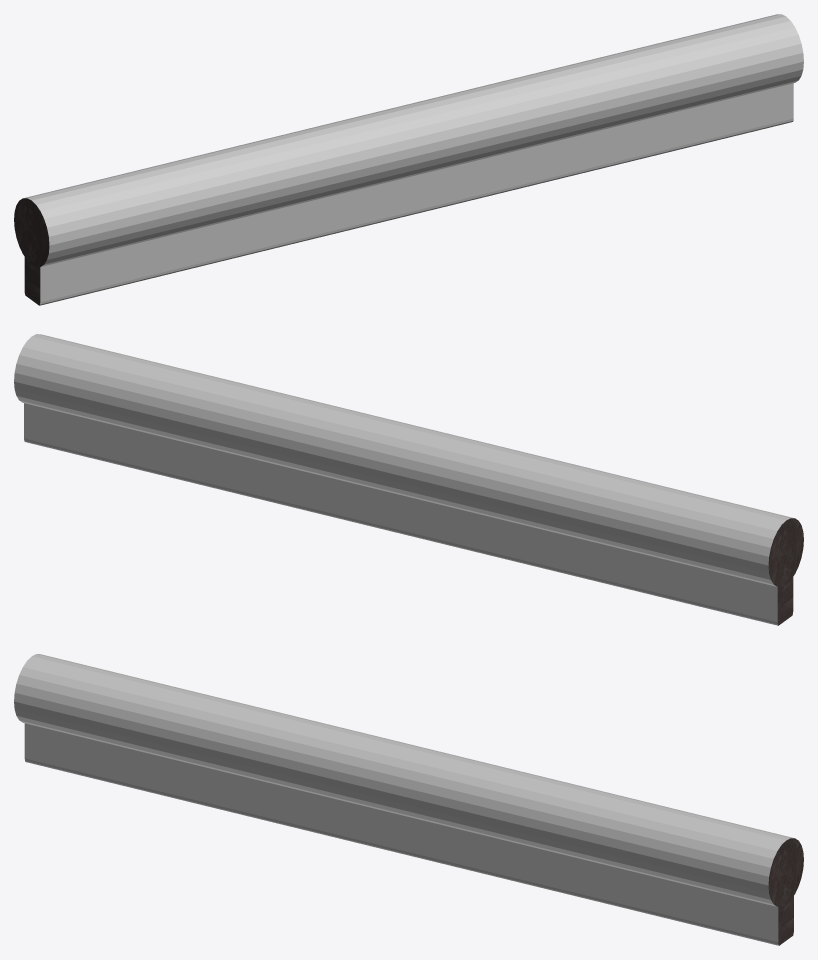
File: SM_Roof_Foundation_2.FBX
3 renders of one model, top to bottom at view 1: azimuth 30°, elevation 25°; view 2: azimuth 150°, elevation 25°; view 3: azimuth 330°, elevation 25°, orthographic.
Parts seen in each view (by area): view 1: SM_Roof_Foundation_2; view 2: SM_Roof_Foundation_2; view 3: SM_Roof_Foundation_2.
Part boxes in pixels (x1,y1,x2,y2): SM_Roof_Foundation_2: (14,14,803,305); SM_Roof_Foundation_2: (14,334,803,625); SM_Roof_Foundation_2: (14,654,803,945).
Size of the model in its own units: 620 by 78.88 by 50.49.
